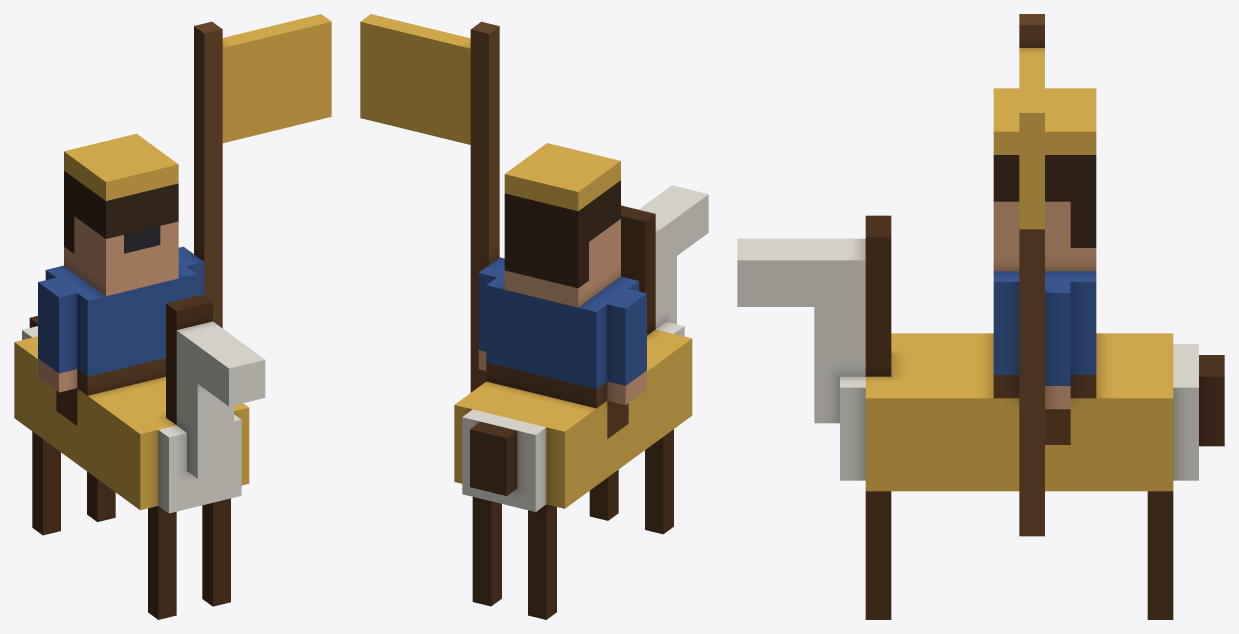
Rendered from u_general.glb.
The picture shows the model from 3 angles, left to right: view 1: azimuth 30°, elevation 25°; view 2: azimuth 150°, elevation 25°; view 3: azimuth 270°, elevation 25°; orthographic projection. The views are drawn at different scales.
Parts seen in each view (by area): view 1: u_general_body; view 2: u_general_body; view 3: u_general_body.
Part boxes in pixels (x1,y1,x2,y2): u_general_body: [14, 14, 331, 619]; u_general_body: [360, 14, 708, 619]; u_general_body: [737, 14, 1224, 619].
Size of the model in its own units: 0.9375 by 1.69 by 1.19.
Materials: 1 (1 with a texture image).
